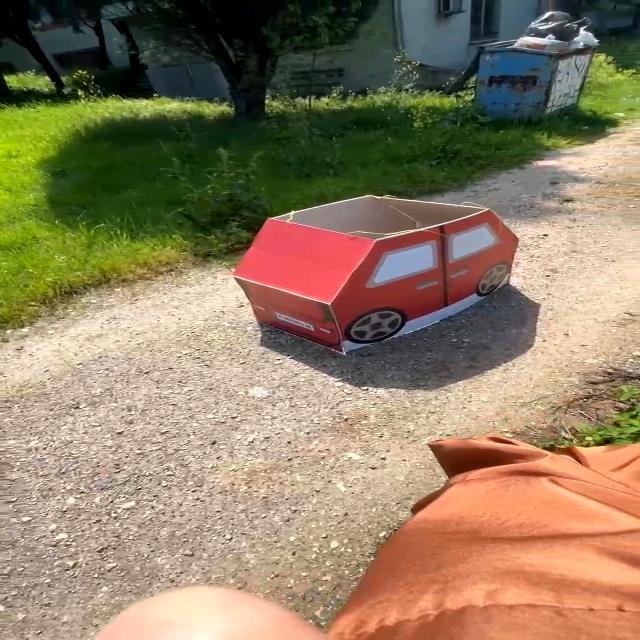red_car: (224, 193, 553, 369)
